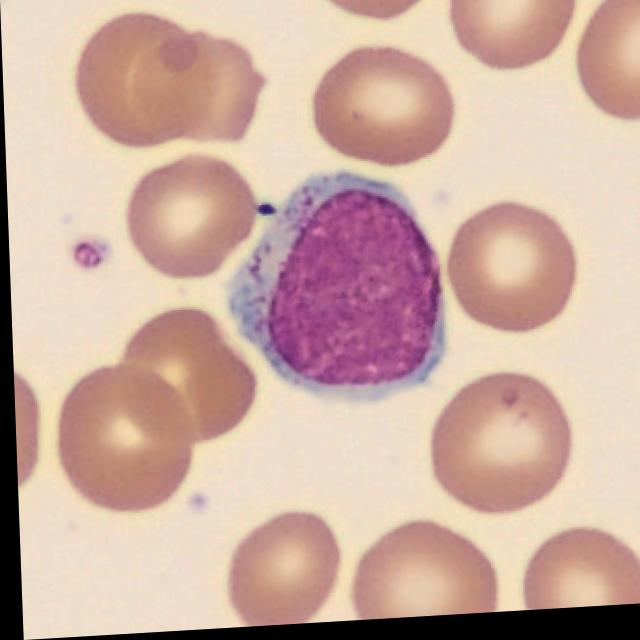Linfocito: (221, 175, 440, 403)
